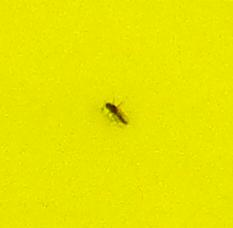Hymenoptera: (100, 100, 133, 128)
